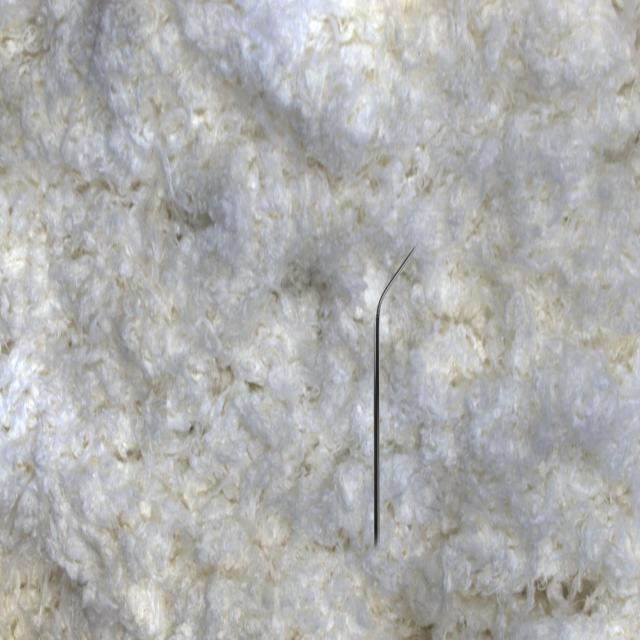dust: (324, 209, 441, 589)
